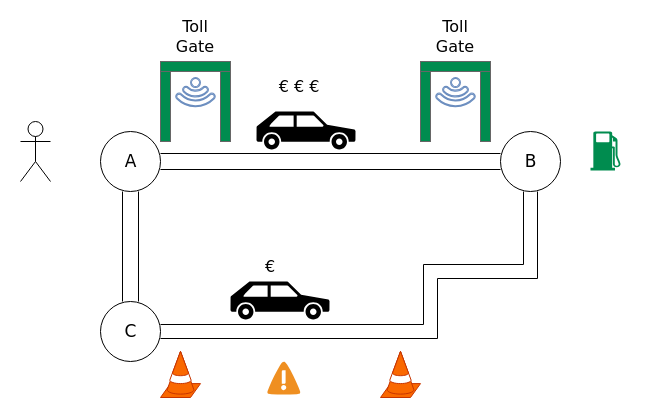
The diagram is 654 pixels wide and 415 high, and some of its shapes have lost their labels. Here are the shapes that lost their labels. From the top down, the centre of each, then its label:
At [35,151]: "Alice".
At [605,150]: "Charger".
